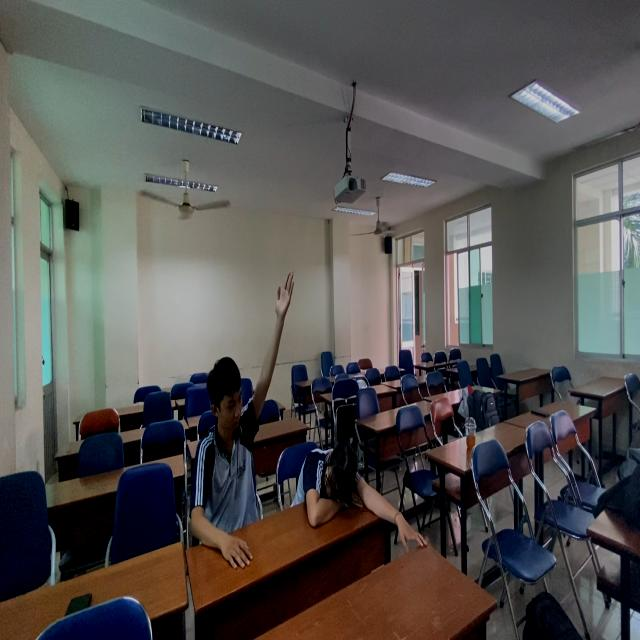raise_hand: (191, 262, 289, 550)
sleep: (291, 436, 399, 523)
